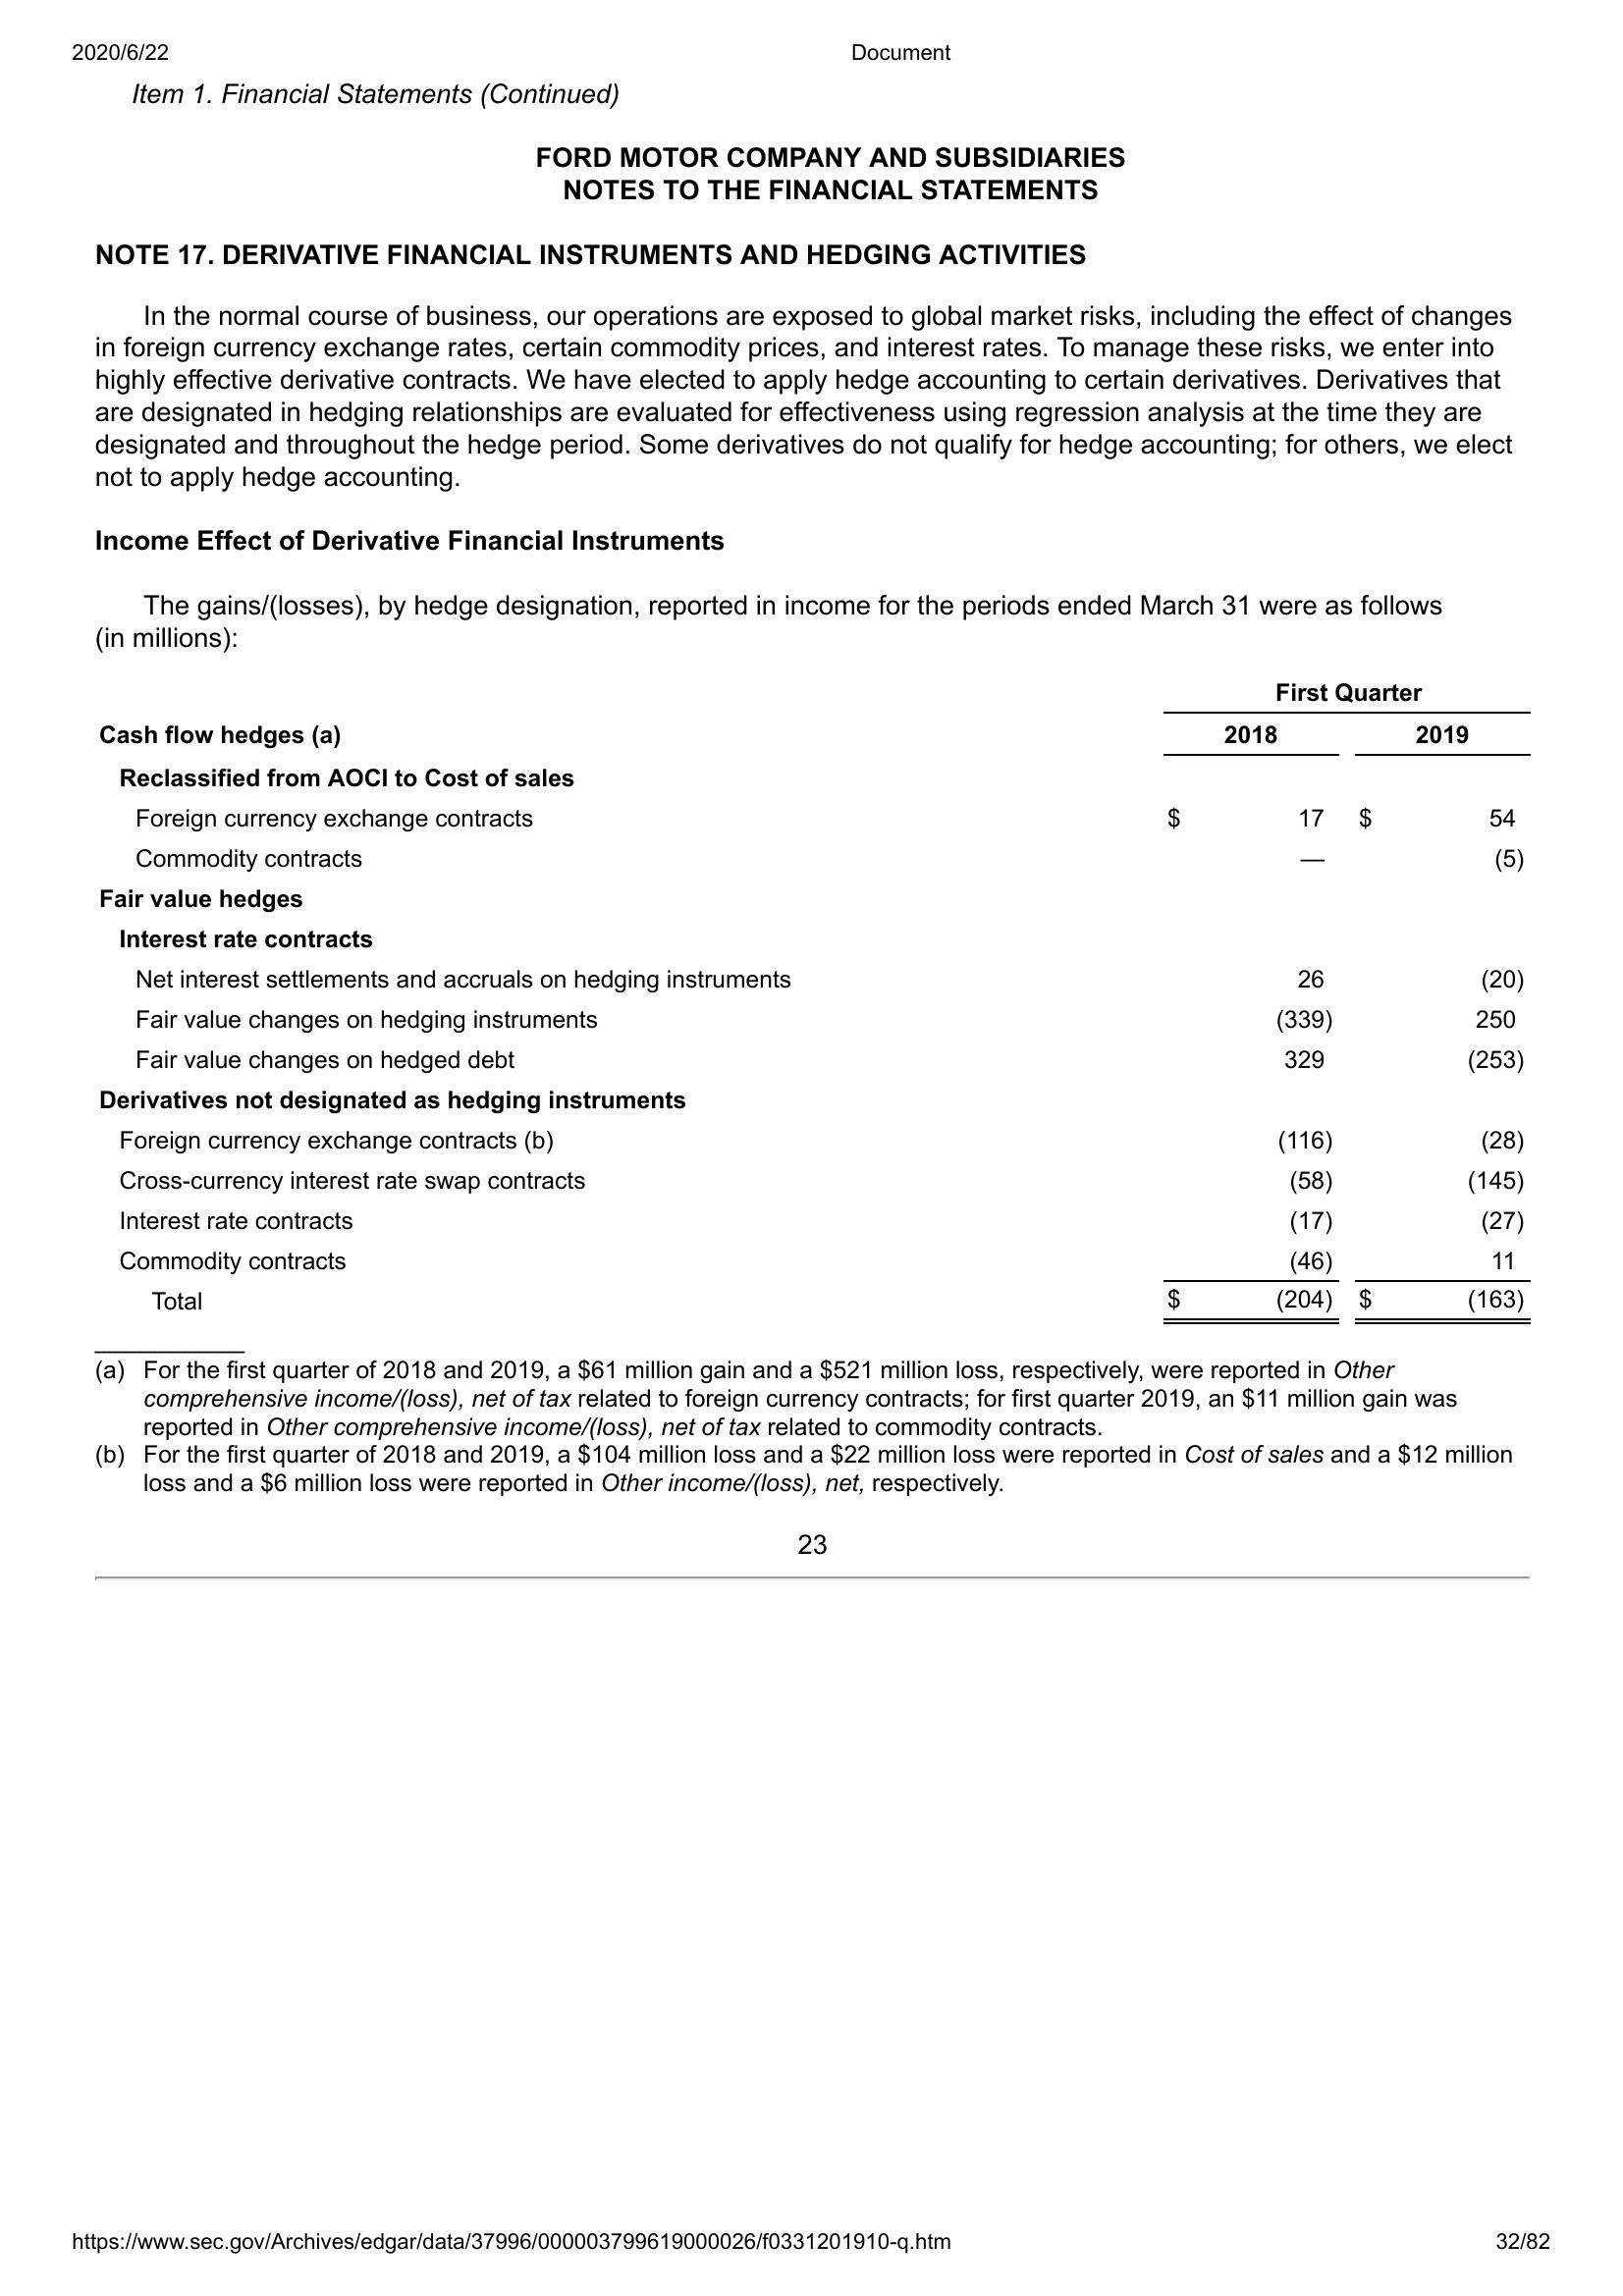table: (90, 669, 1539, 1334)
